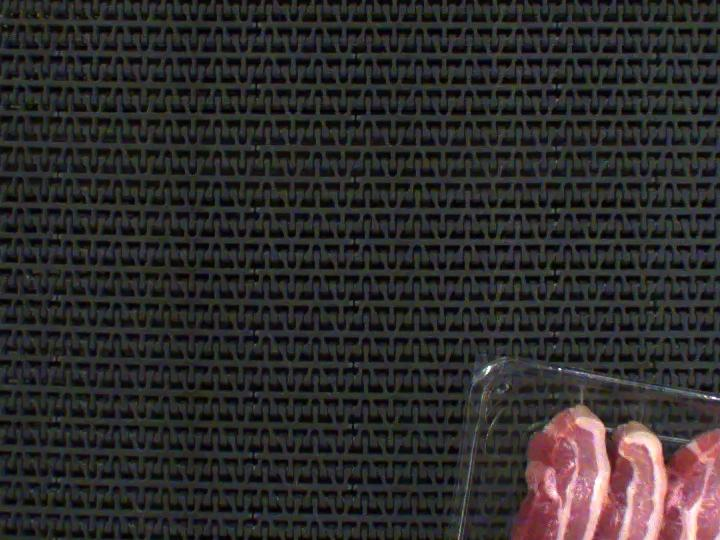packaging-error: (568, 380, 593, 406)
